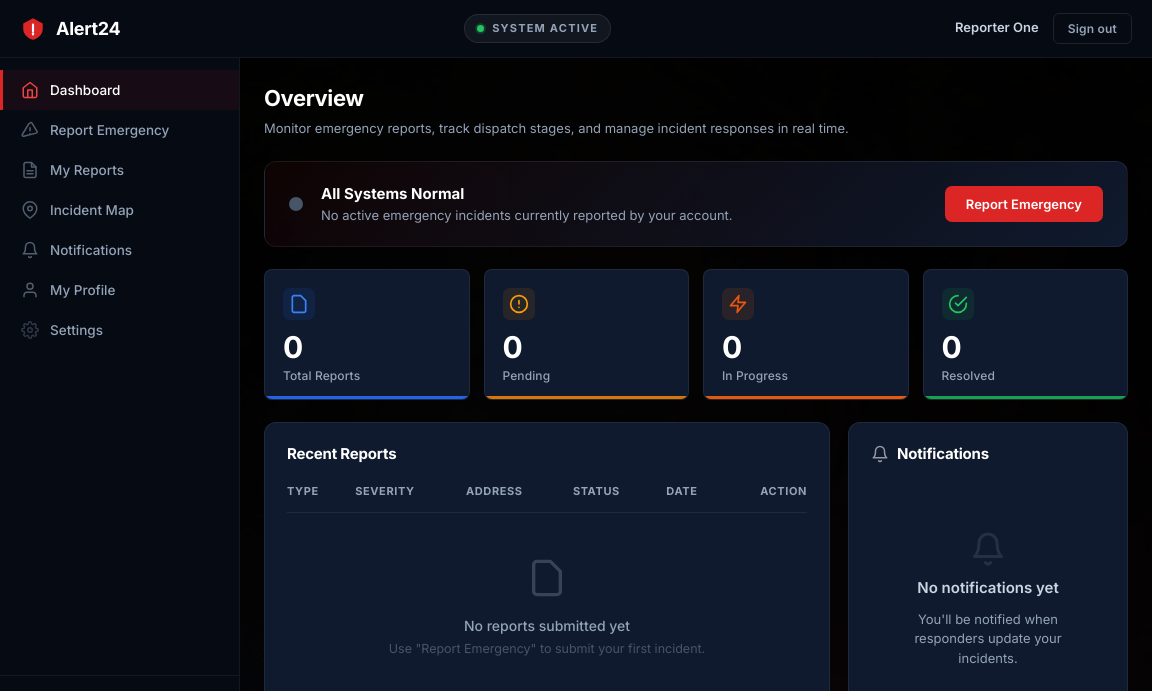
Test: Reporter incident submission › does NOT claim success when the write is rejected
Click the 1st button titled "Report Emergency" at coordinates (120, 130), box top-left (0, 110), bottom-right (239, 150)
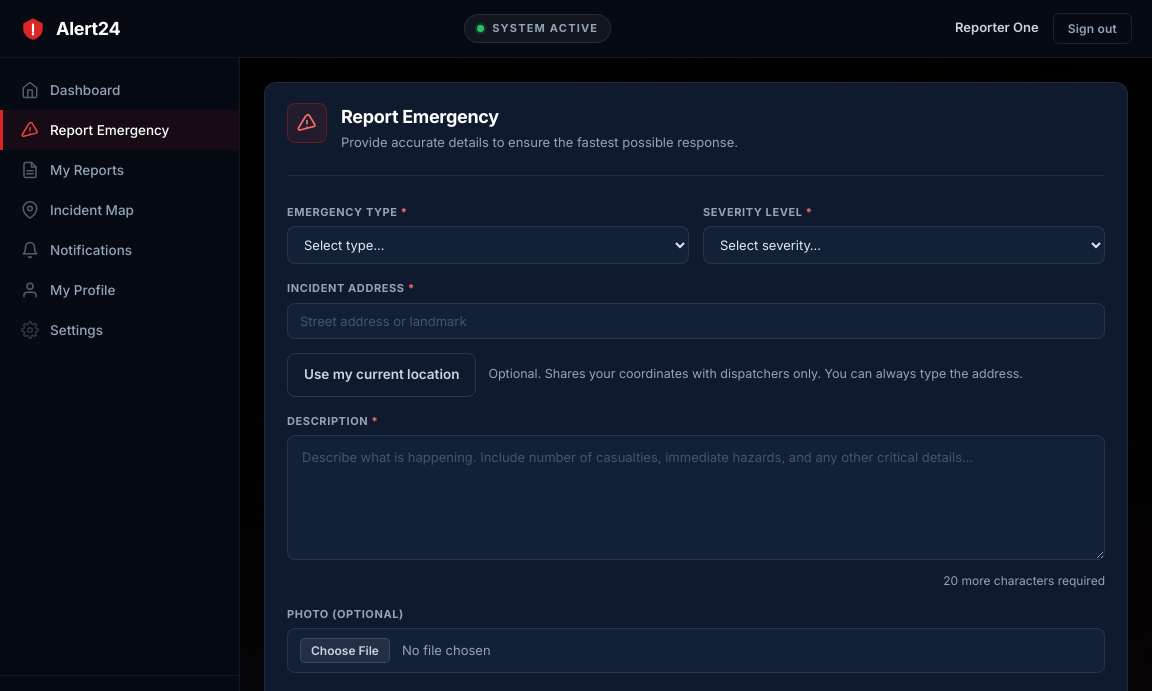
Select "Fire" in the dropdown labelled "Emergency Type *" at coordinates (488, 245), box top-left (287, 226), bottom-right (689, 264)
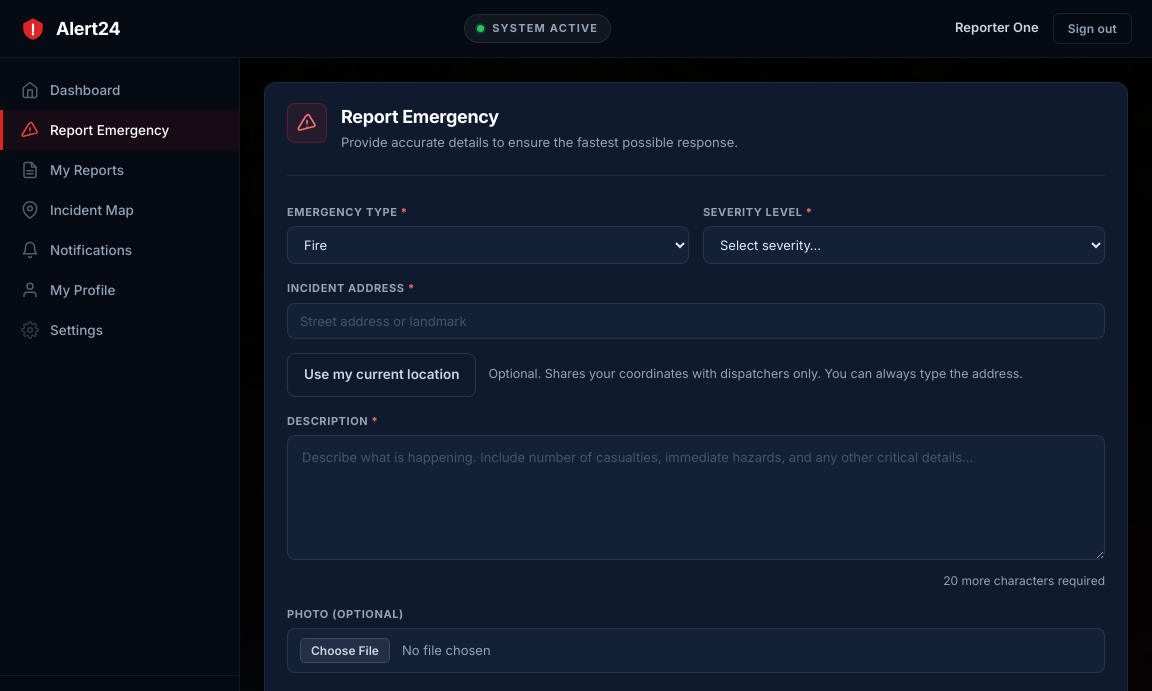
Select "Critical" in the dropdown labelled "Severity Level *" at coordinates (904, 245), box top-left (703, 226), bottom-right (1105, 264)
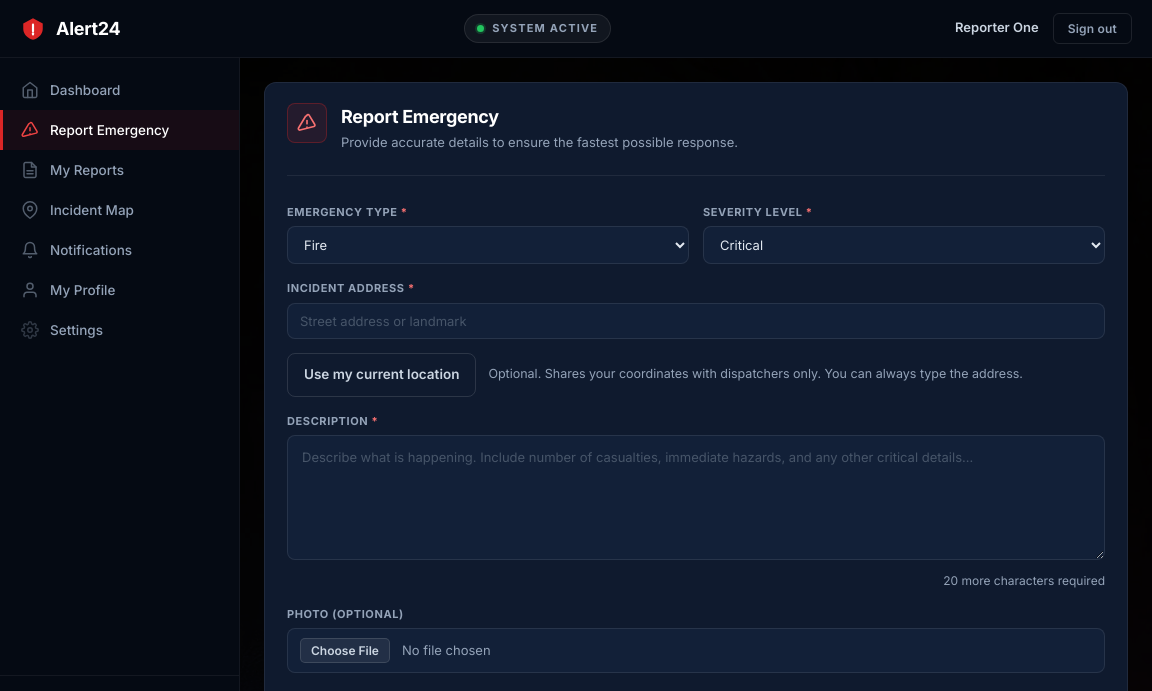
Type "1 Main Street" into the field with placeholder "Street address or landmark" at coordinates (696, 320), box top-left (287, 302), bottom-right (1105, 338)
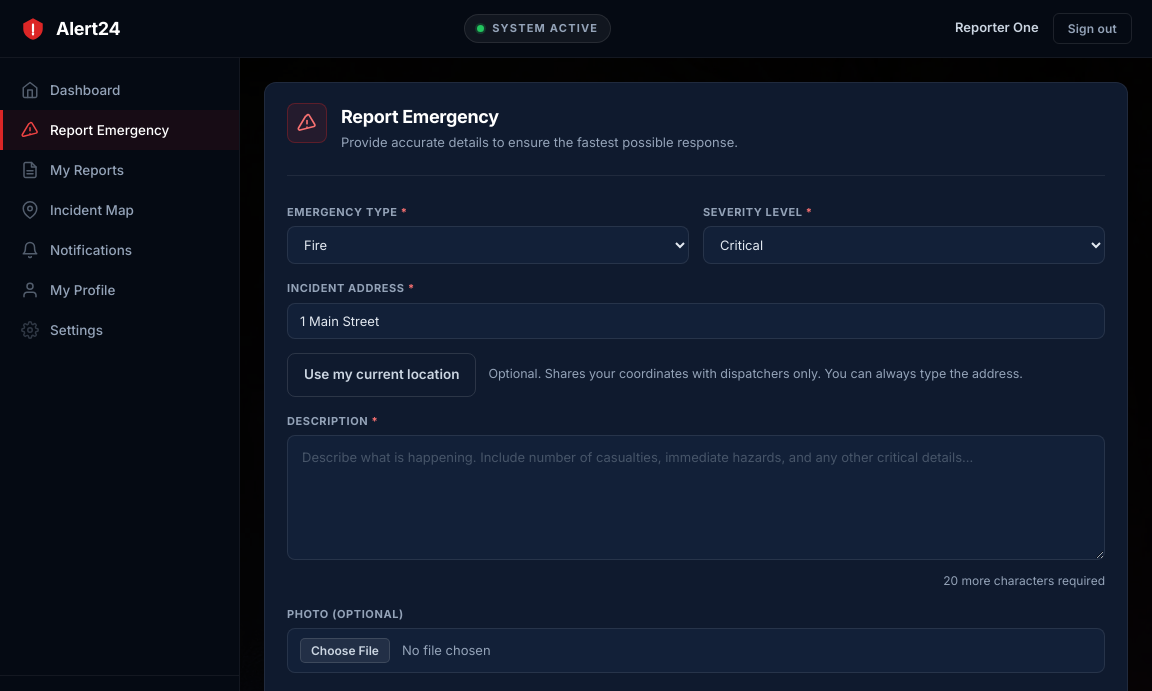
Replace the text in the text box with placeholder "Describe what is happening" with "A large fire is spreading through the warehouse" at coordinates (696, 497), box top-left (287, 435), bottom-right (1105, 560)
(page scrolled)
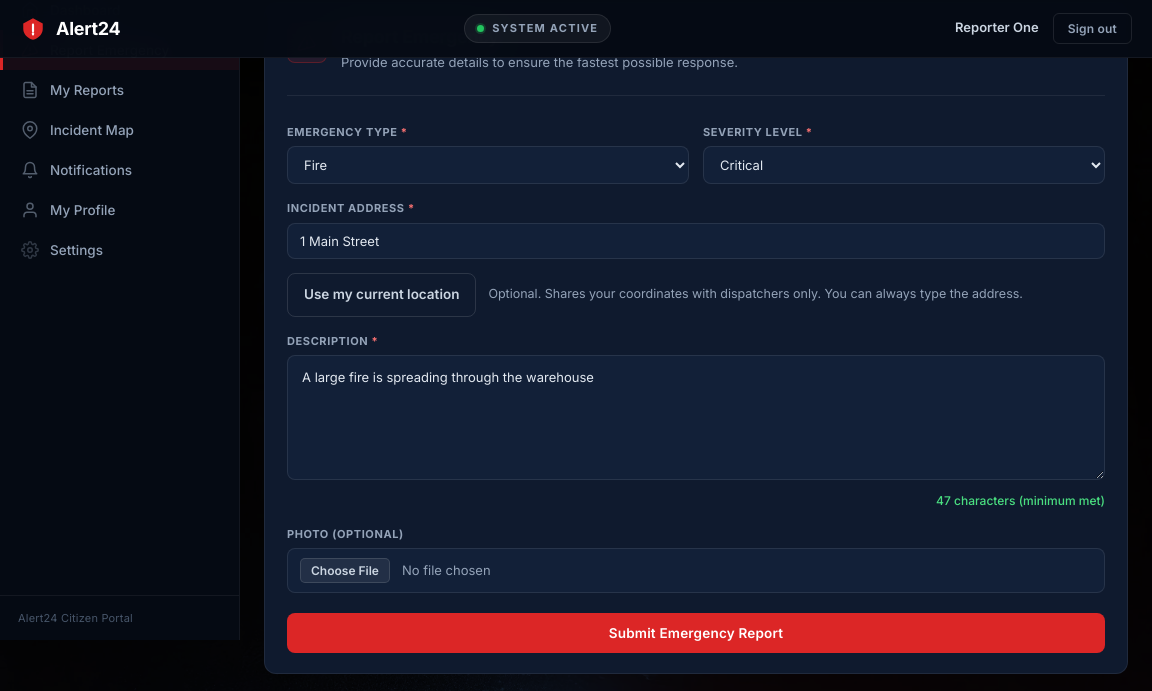
Click the button "Submit Emergency Report" at coordinates (696, 633), box top-left (287, 613), bottom-right (1105, 653)
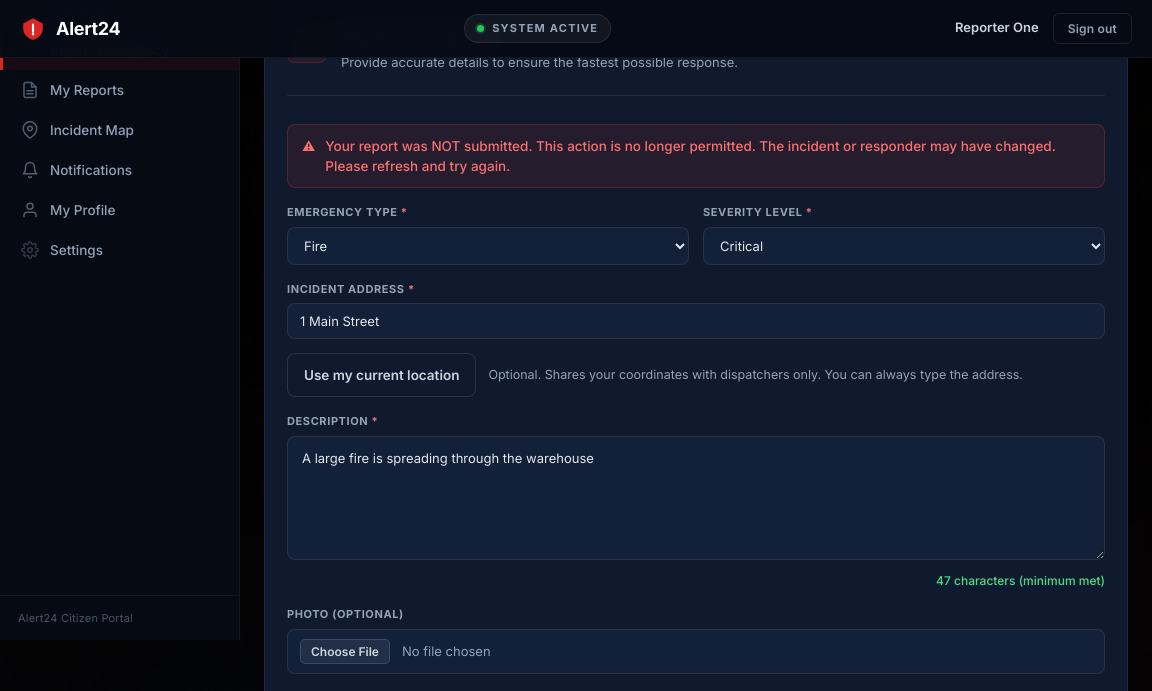
Now the text "Your report was NOT submitted" is shown, box top-left (325, 138), bottom-right (1056, 174)
